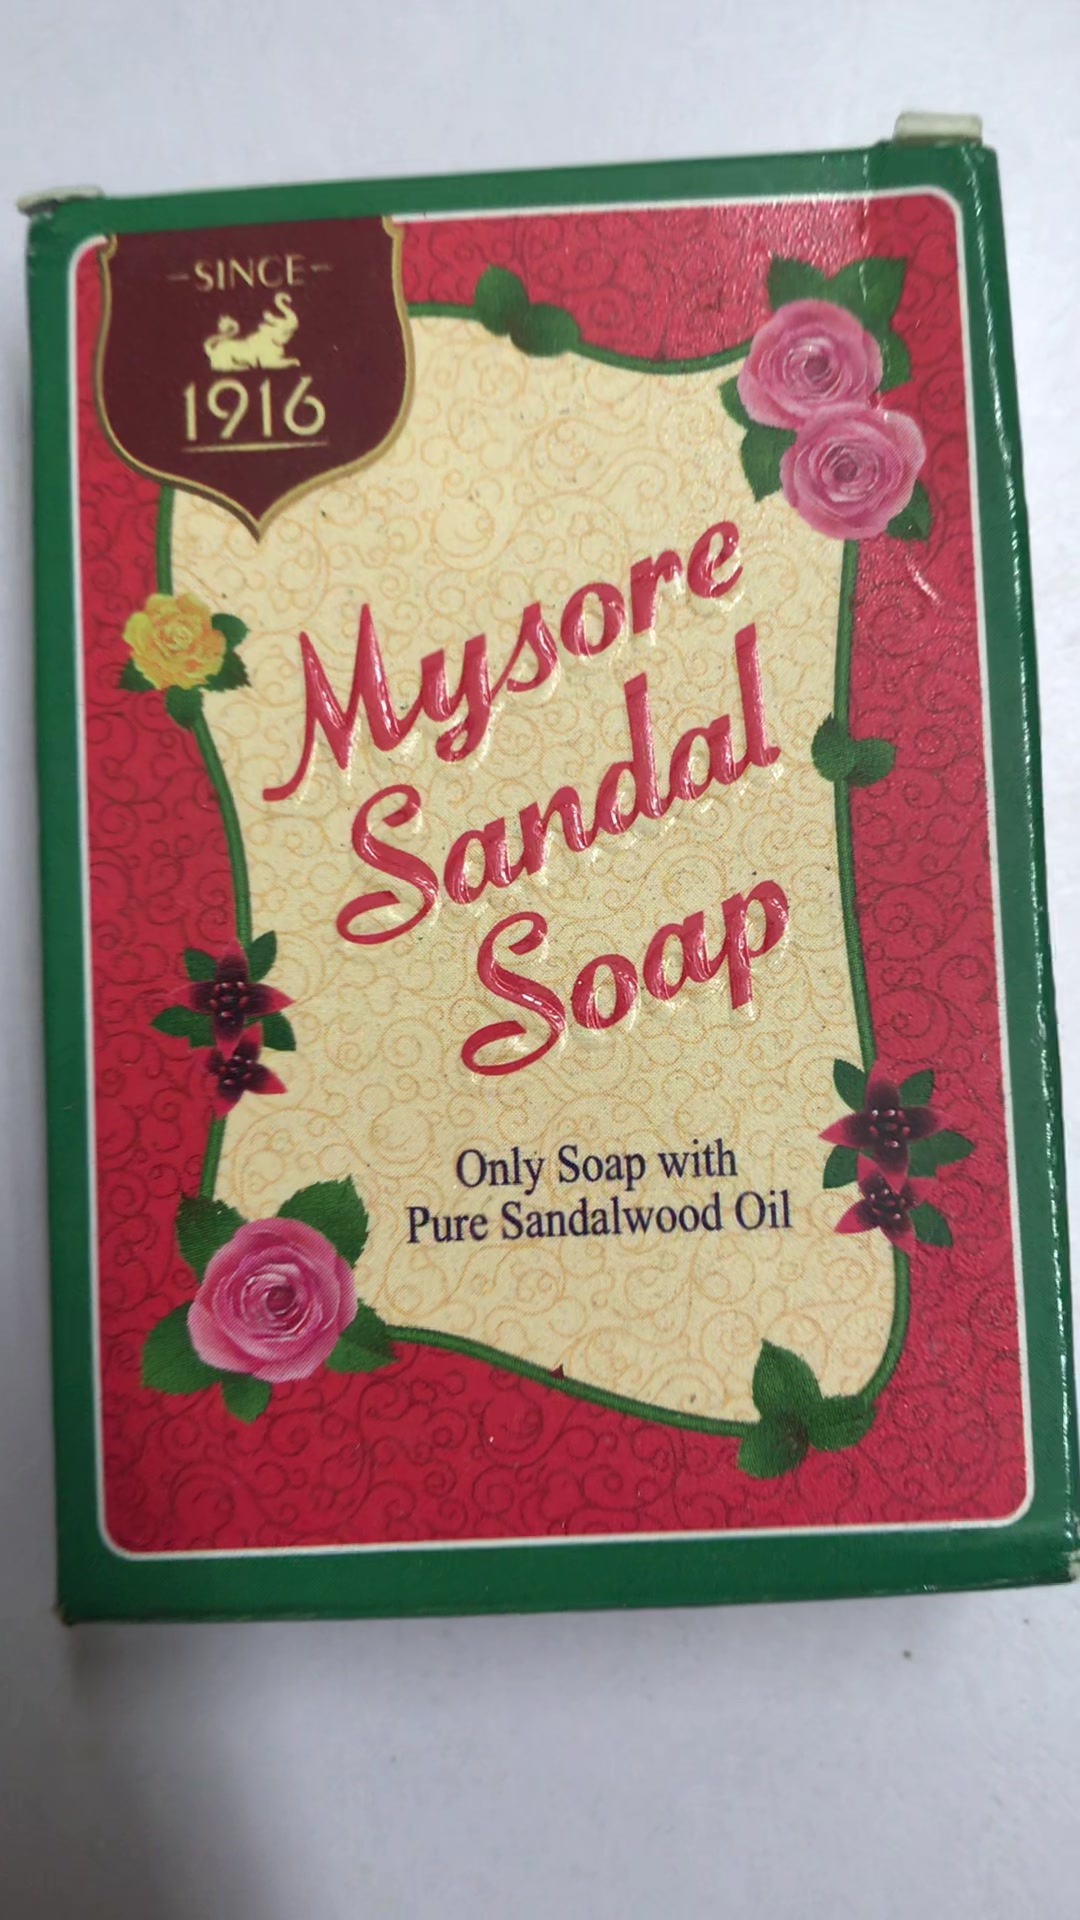mysore sandal soap: (40, 154, 1077, 1615)
